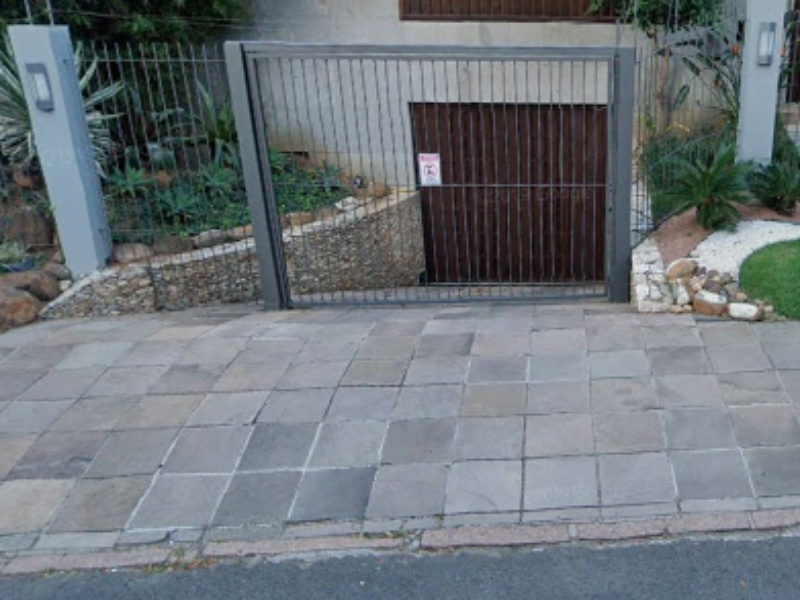g72: (23, 471, 780, 600)
